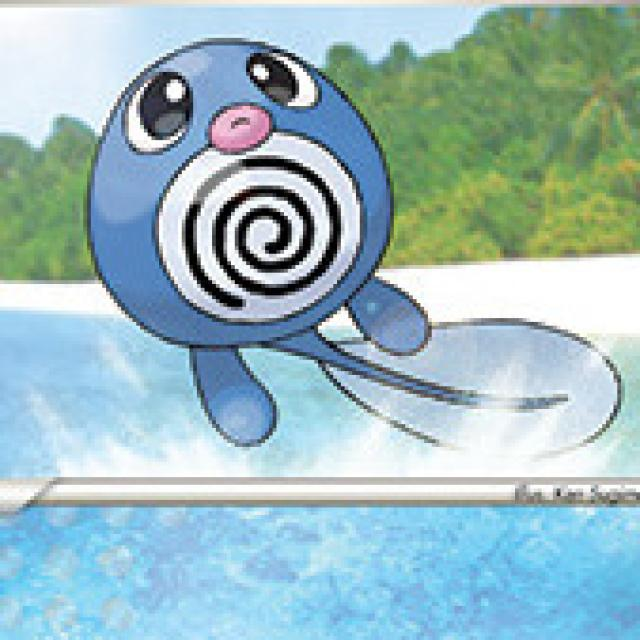Poliwag: (75, 33, 445, 451)
